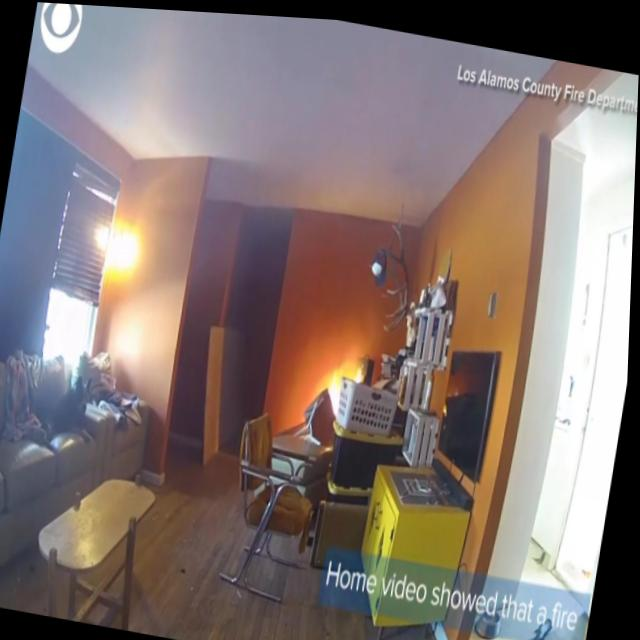fire: (321, 347, 366, 419)
